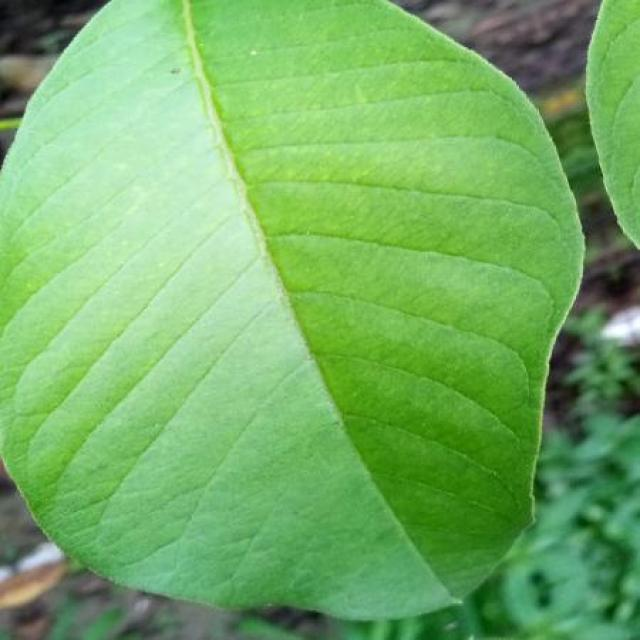Disease Free: (0, 0, 582, 618)
